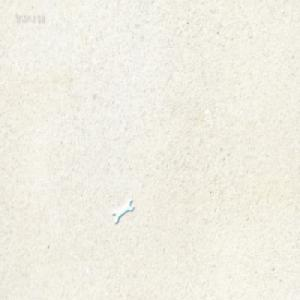Wrench: (112, 197, 134, 223)
